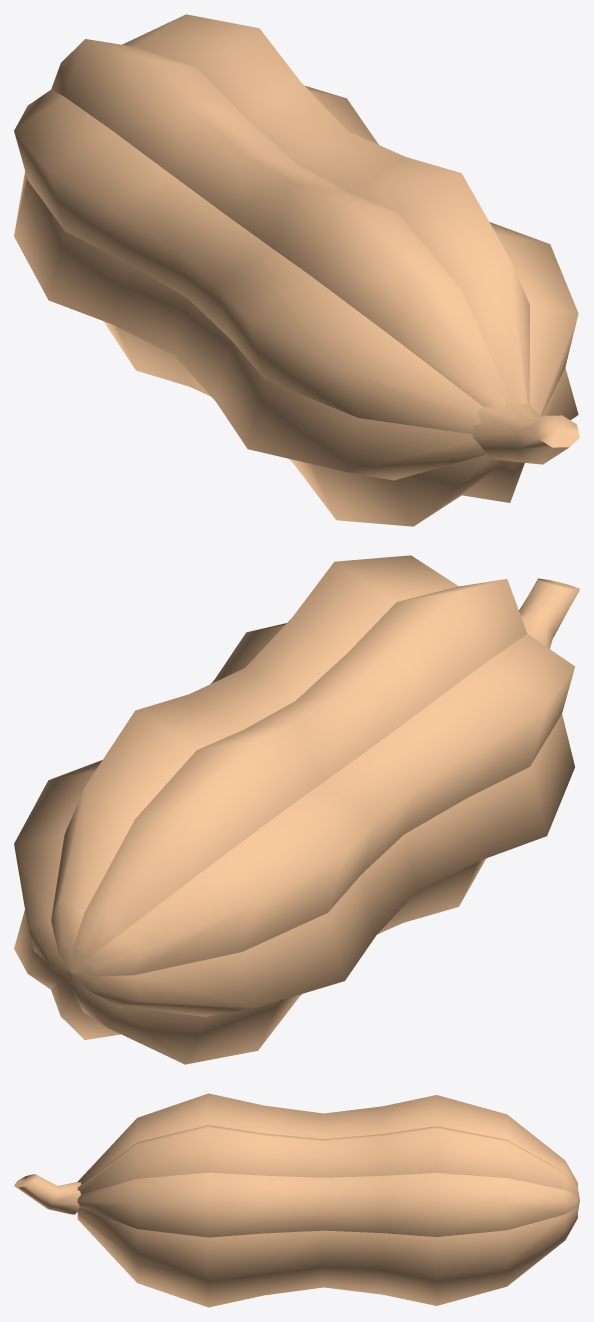
Rendered from SM_Squash_01.fbx.
3 renders of one model, top to bottom at view 1: azimuth 30°, elevation 25°; view 2: azimuth 150°, elevation 25°; view 3: azimuth 270°, elevation 25°, orthographic. The views are drawn at different scales.
Parts seen in each view (by area): view 1: Cylinder.012, Cylinder.013; view 2: Cylinder.012, Cylinder.013; view 3: Cylinder.012, Cylinder.013.
Boxes of the visible parts, x1,y1,x2,y2 form: Cylinder.012: (14, 14, 578, 526); Cylinder.013: (472, 401, 579, 464); Cylinder.012: (14, 555, 574, 1064); Cylinder.013: (519, 578, 579, 648); Cylinder.012: (77, 1093, 579, 1307); Cylinder.013: (14, 1174, 81, 1214).
Bounding box in the file's own units: 25.76 × 25.76 × 73.6.
